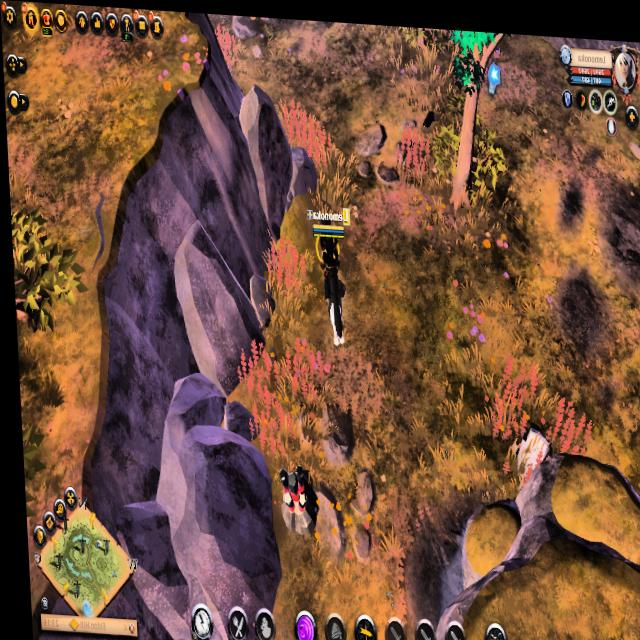ore tier 5: (271, 457, 316, 536)
rock tier 1: (508, 414, 553, 483)
